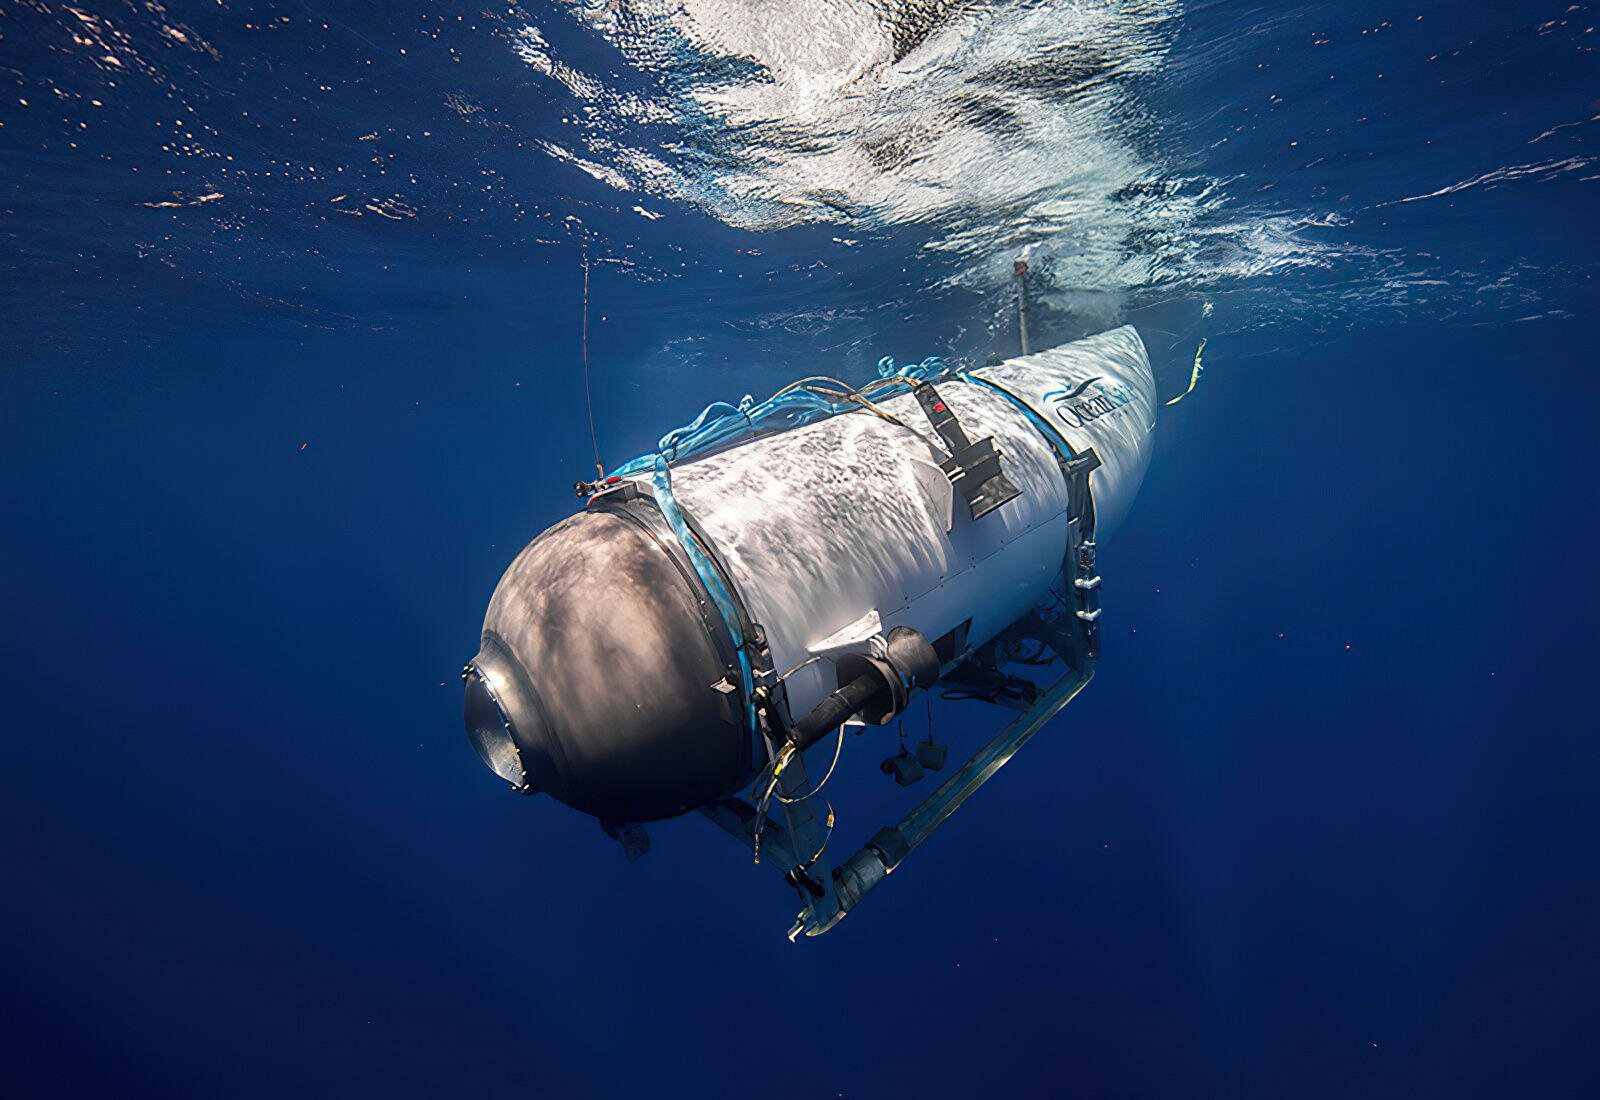ROV: (453, 327, 1170, 960)
